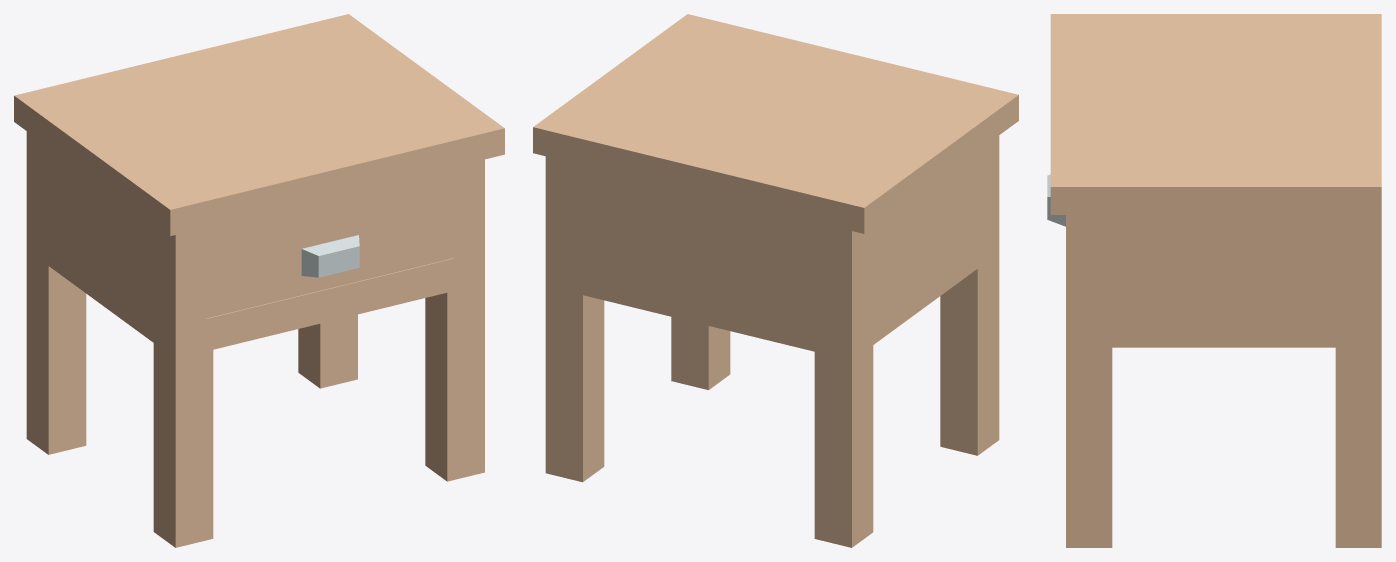
Rendered from cabinetBedDrawerTable.gltf.
3 views of the same model, side by side, from view 1: azimuth 30°, elevation 25°; view 2: azimuth 150°, elevation 25°; view 3: azimuth 270°, elevation 25° (orthographic). The views are drawn at different scales.
Visible parts, largest first — view 1: cabinetBedDrawerTable(Clone), drawer; view 2: cabinetBedDrawerTable(Clone); view 3: cabinetBedDrawerTable(Clone).
Boxes of the visible parts, left/top/right/bottom form: cabinetBedDrawerTable(Clone): left=14, top=14, right=504, bottom=547; drawer: left=206, top=192, right=453, bottom=318; cabinetBedDrawerTable(Clone): left=533, top=14, right=1018, bottom=547; cabinetBedDrawerTable(Clone): left=1050, top=14, right=1381, bottom=547.
Size of the model in its own units: 0.266 by 0.2632 by 0.2173.
